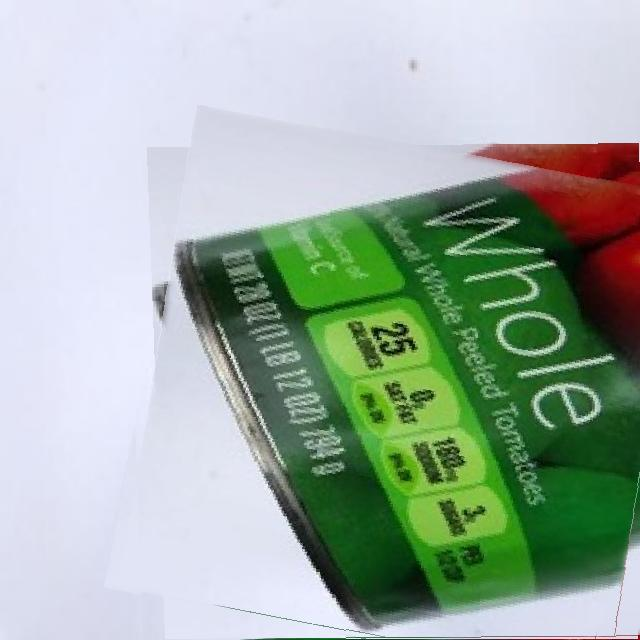recyclable: (124, 125, 640, 640)
